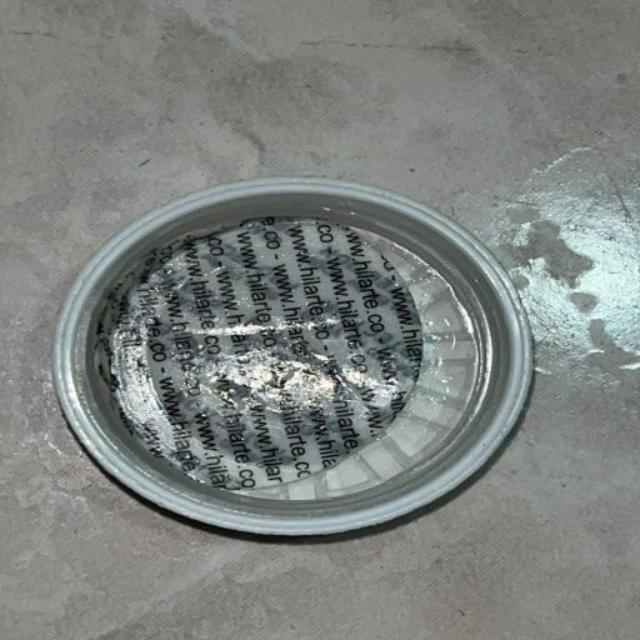HDPE: (28, 145, 609, 602)
